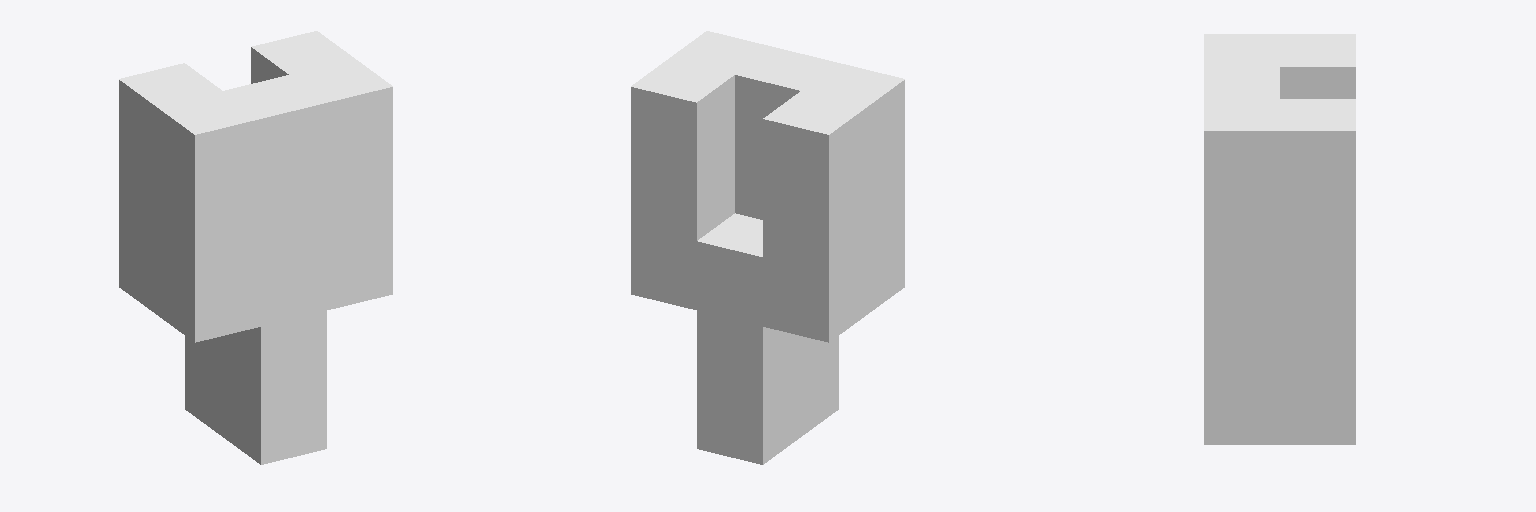
The model's file is fakel.obj.
3 views of the same model, side by side, from view 1: azimuth 30°, elevation 25°; view 2: azimuth 150°, elevation 25°; view 3: azimuth 270°, elevation 25° (orthographic).
Visible parts, largest first — view 1: object 1; view 2: object 1; view 3: object 1.
Part boxes in pixels (bbox=[...]): object 1: bbox=[119, 31, 392, 464]; object 1: bbox=[631, 31, 904, 464]; object 1: bbox=[1204, 34, 1355, 444].
Bounding box in the file's own units: 0.3 × 0.5 × 0.2.